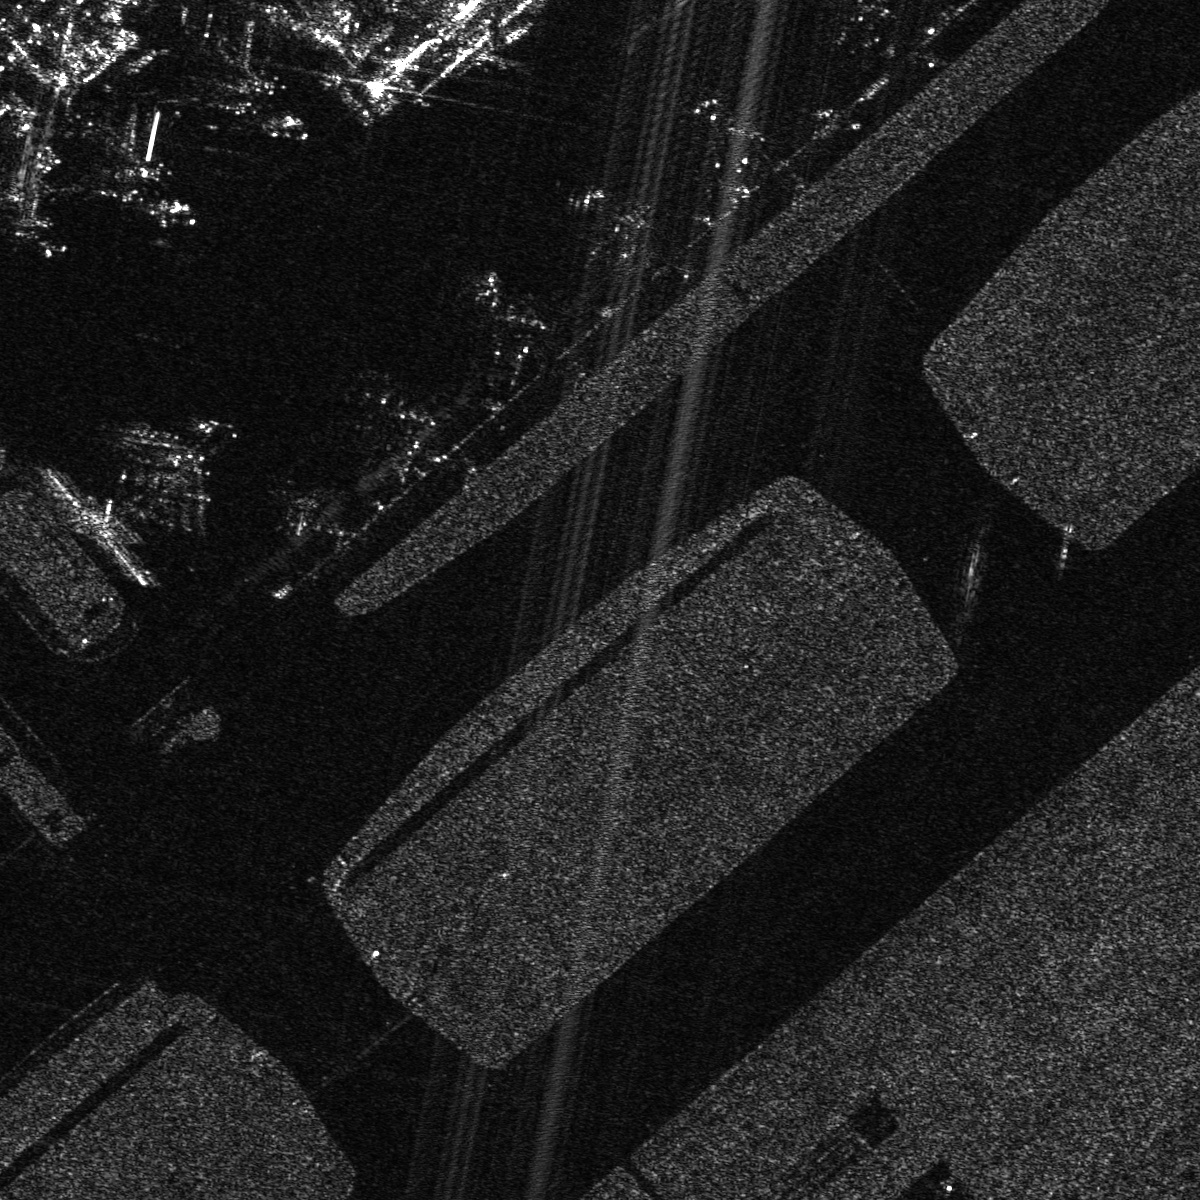Boeing787: (173, 12, 271, 97), (75, 109, 166, 192), (464, 266, 545, 349)
other: (105, 416, 245, 530), (569, 180, 662, 269), (692, 89, 780, 176)
